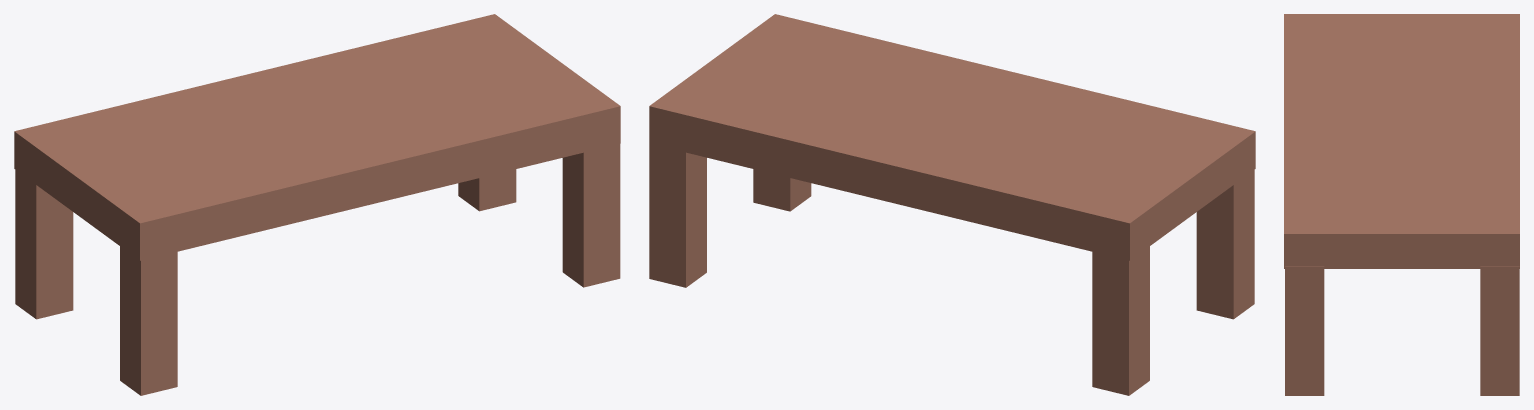
File: mesa.obj
3 views of the same model, side by side, from view 1: azimuth 30°, elevation 25°; view 2: azimuth 150°, elevation 25°; view 3: azimuth 270°, elevation 25° (orthographic). The views are drawn at different scales.
Visible parts, largest first — view 1: group4 mesa1:pCube679, group4 mesa1:pCube678, mesa1:pCube682 group4, group4 mesa1:pCube680, group4 mesa1:pCube681; view 2: group4 mesa1:pCube679, group4 mesa1:pCube680, group4 mesa1:pCube681, group4 mesa1:pCube678, mesa1:pCube682 group4; view 3: group4 mesa1:pCube679, group4 mesa1:pCube681, mesa1:pCube682 group4.
Part boxes in pixels (x1,y1,x2,y2): group4 mesa1:pCube679: (14,14,620,260); group4 mesa1:pCube678: (120,246,177,395); mesa1:pCube682 group4: (562,144,620,287); group4 mesa1:pCube680: (15,170,73,319); group4 mesa1:pCube681: (458,169,516,211); group4 mesa1:pCube679: (649,14,1255,260); group4 mesa1:pCube680: (1092,246,1149,395); group4 mesa1:pCube681: (649,143,706,287); group4 mesa1:pCube678: (1196,170,1254,319); mesa1:pCube682 group4: (753,169,811,211); group4 mesa1:pCube679: (1284,14,1519,268); group4 mesa1:pCube681: (1480,266,1519,395); mesa1:pCube682 group4: (1285,266,1324,395).
Bounding box in the file's own units: 4.72 × 1.62 × 2.14.
1 material, 1 textured.
